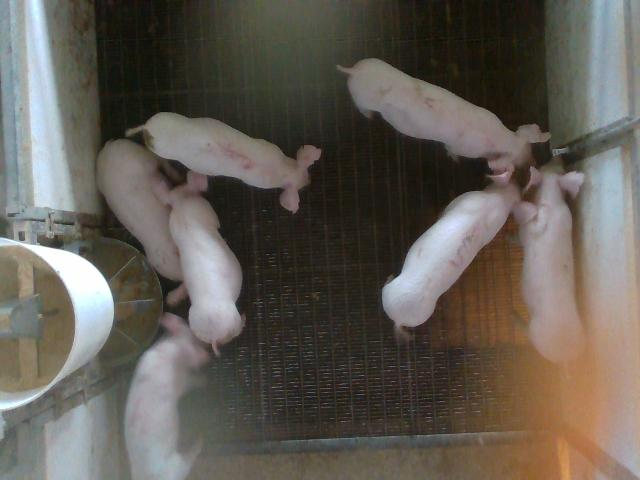pig-3: (382, 171, 535, 329)
pig-4: (125, 312, 210, 479)
pig-5: (126, 112, 321, 212)
